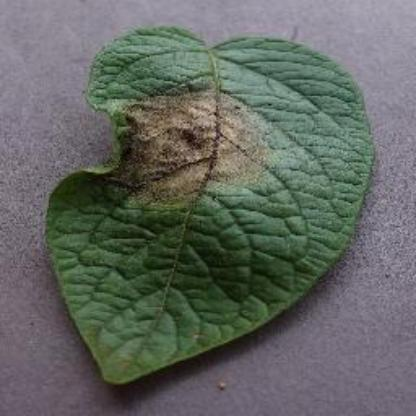Late-Blight: (21, 11, 416, 413)
